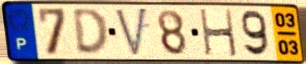7: (37, 7, 70, 58)
8: (156, 9, 188, 57)
9: (240, 9, 271, 58)
D: (71, 7, 111, 58)
H: (197, 8, 240, 59)
V: (113, 5, 150, 59)
